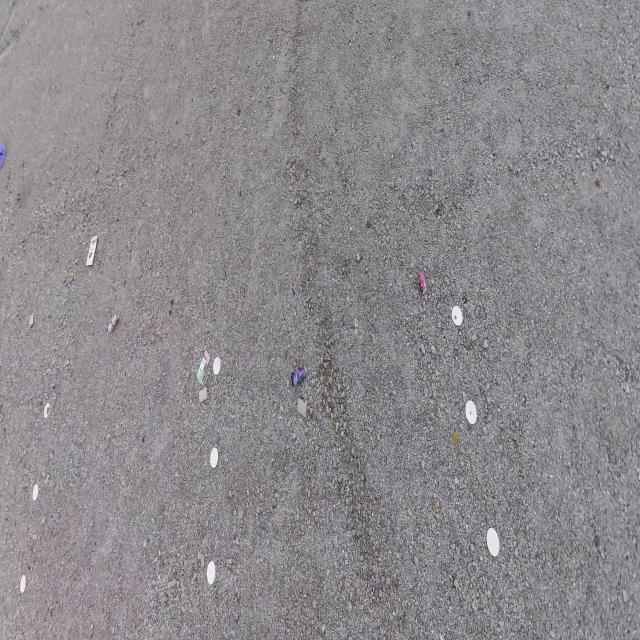rubbish: (196, 350, 210, 384), (85, 237, 98, 268), (291, 364, 307, 389), (108, 311, 119, 334), (0, 144, 8, 170), (297, 398, 307, 418), (419, 272, 427, 294), (199, 387, 208, 404), (29, 311, 34, 329), (354, 318, 358, 326)
